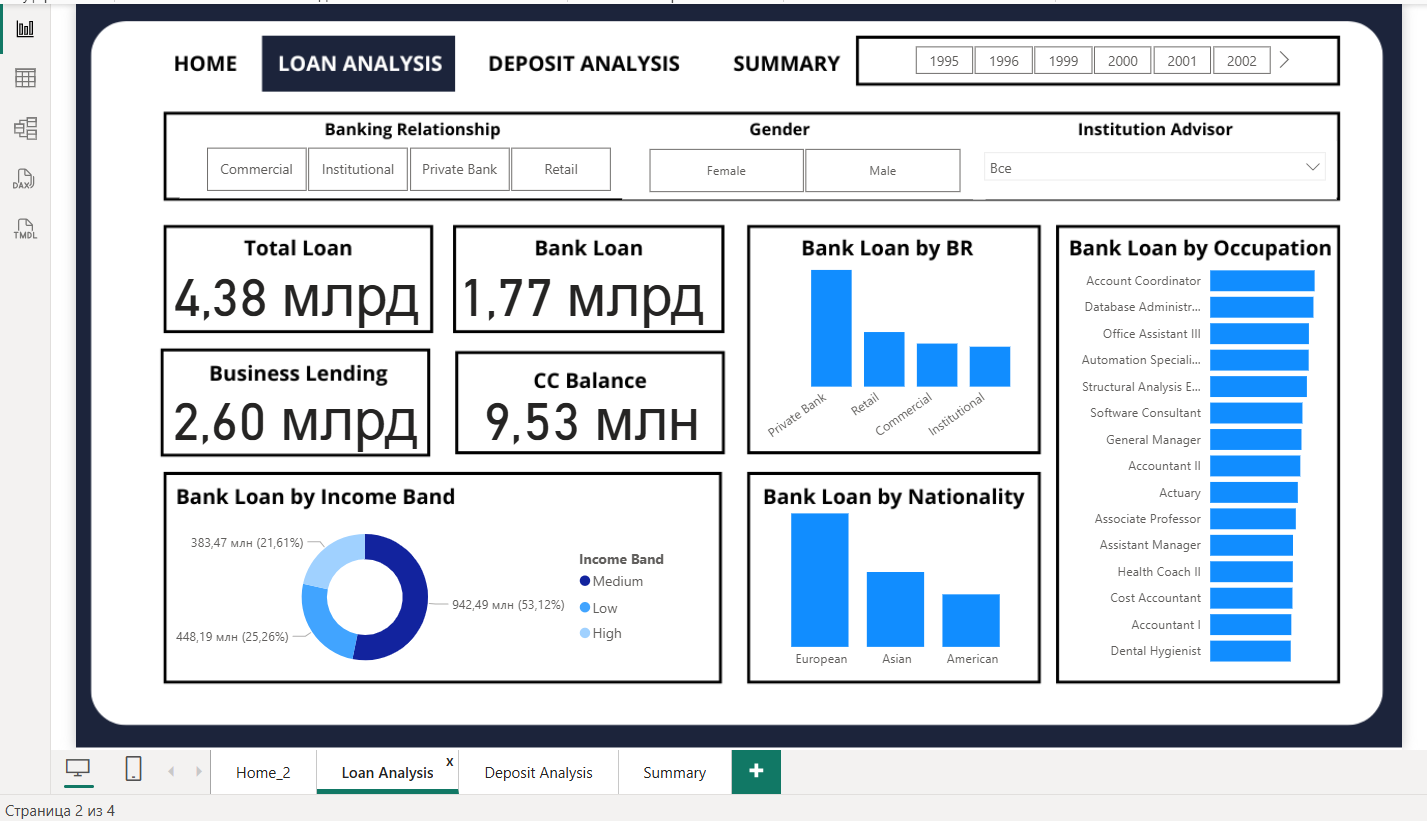

What the dashboard file says about the page in this screenshot:
{"tool":"powerbi","page":{"name":"Loan Analysis","canvas":[1280,720],"ordinal":1},"visuals":[{"type":"slicer","fields":{"Values":["banking_case customer.Year of Joining"]},"box":[784.3,34.3,392.9,38.6],"z":0},{"type":"actionButton","box":[80,40,87.1,38.6],"z":1000},{"type":"actionButton","box":[385.7,41.4,204.3,38.6],"z":2000},{"type":"actionButton","box":[625.7,40,115.7,38.6],"z":3000},{"type":"card","fields":{"Values":["banking_case customer.Total Loan"]},"box":[84.3,217.1,257.1,120],"z":4000},{"type":"card","fields":{"Values":["Sum(banking_case customer.Bank Loans)"]},"box":[360,217.1,257.1,120],"z":5000},{"type":"card","fields":{"Values":["Sum(banking_case customer.Business Lending)"]},"box":[82.9,337.1,257.1,120],"z":6000},{"type":"card","fields":{"Values":["Sum(banking_case customer.Credit Card Balance)"]},"box":[368.6,337.1,257.1,120],"z":7000},{"type":"donutChart","fields":{"Category":["banking_case customer.Income Band"],"Y":["Sum(banking_case customer.Bank Loans)"]},"box":[67.1,490,522.9,165.7],"z":8000},{"type":"clusteredColumnChart","fields":{"Y":["Sum(banking_case customer.Bank Loans)"],"Category":["banking_case customer.BRId"]},"box":[655.9,216.7,272.7,225.3],"z":9000},{"type":"clusteredColumnChart","fields":{"Category":["banking_case customer.Nationality"],"Y":["Sum(banking_case customer.Bank Loans)"]},"box":[655.9,473.7,272.7,176.5],"z":10000},{"type":"clusteredBarChart","fields":{"Category":["banking_case customer.Occupation"],"Y":["Sum(banking_case customer.Bank Loans)"]},"box":[951.6,234,264.1,416.2],"z":11000},{"type":"slicer","fields":{"Values":["banking_case customer.BRId"]},"box":[100,131.4,440,55.7],"z":12000},{"type":"slicer","fields":{"Values":["banking_case customer.GenderId"]},"box":[527.1,132.9,350,55.7],"z":13000},{"type":"slicer","fields":{"Values":["banking_case customer.IAId"]},"box":[865.7,132.9,350,55.7],"z":14000}]}

Visuals, with their boxes on the page's 1280x720 design canvas (x1, y1, x2, y2). These are canvas units, not pixel positions in the 1427x821 screenshot, which may show the page scaled, cropped or inside an application window:
slicer - banking_case customer.Year of Joining: bbox(784, 34, 1177, 73)
actionButton: bbox(80, 40, 167, 79)
actionButton: bbox(386, 41, 590, 80)
actionButton: bbox(626, 40, 741, 79)
card - banking_case customer.Total Loan: bbox(84, 217, 341, 337)
card - Sum(banking_case customer.Bank Loans): bbox(360, 217, 617, 337)
card - Sum(banking_case customer.Business Lending): bbox(83, 337, 340, 457)
card - Sum(banking_case customer.Credit Card Balance): bbox(369, 337, 626, 457)
donutChart - banking_case customer.Income Band x Sum(banking_case customer.Bank Loans): bbox(67, 490, 590, 656)
clusteredColumnChart - Sum(banking_case customer.Bank Loans) x banking_case customer.BRId: bbox(656, 217, 929, 442)
clusteredColumnChart - banking_case customer.Nationality x Sum(banking_case customer.Bank Loans): bbox(656, 474, 929, 650)
clusteredBarChart - banking_case customer.Occupation x Sum(banking_case customer.Bank Loans): bbox(952, 234, 1216, 650)
slicer - banking_case customer.BRId: bbox(100, 131, 540, 187)
slicer - banking_case customer.GenderId: bbox(527, 133, 877, 189)
slicer - banking_case customer.IAId: bbox(866, 133, 1216, 189)
